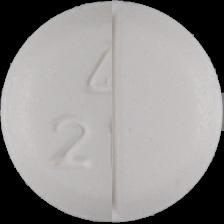0615-7613: (0, 0, 224, 224)
